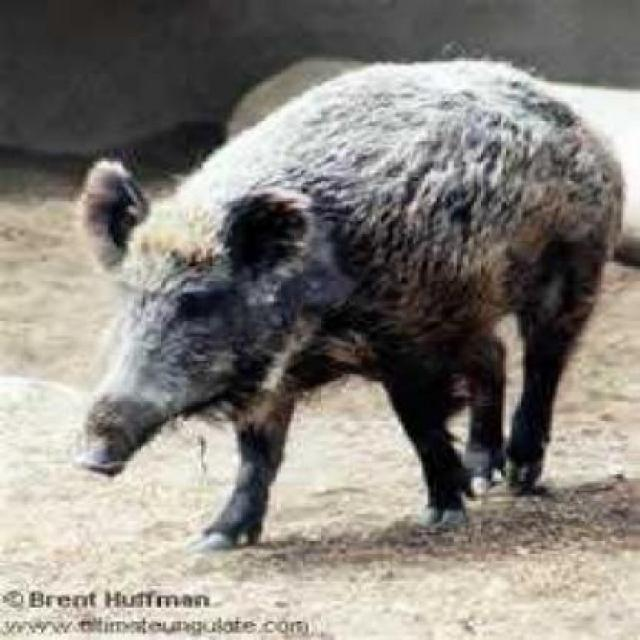pig: (32, 65, 640, 606)
